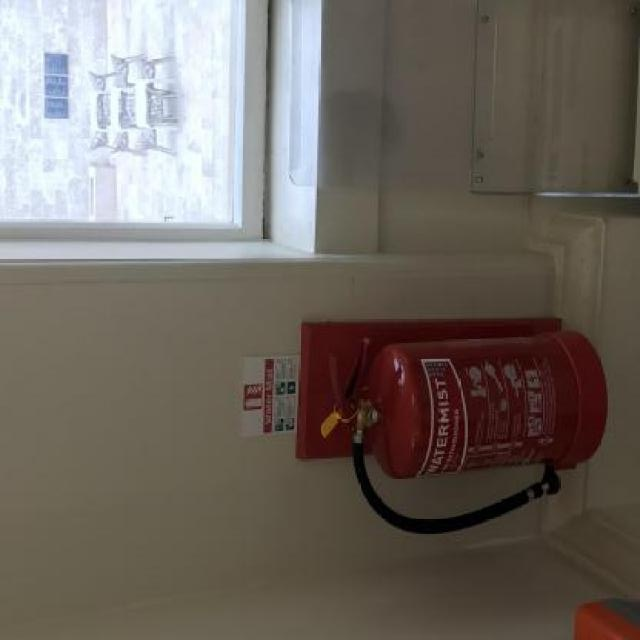fire extinguisher: (328, 330, 608, 538)
